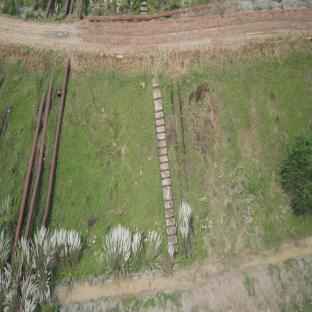slope_drain: (170, 83, 191, 207)
toe_drain: (54, 232, 312, 310)
vegetation: (21, 229, 84, 312), (100, 229, 166, 272), (283, 134, 312, 219)
